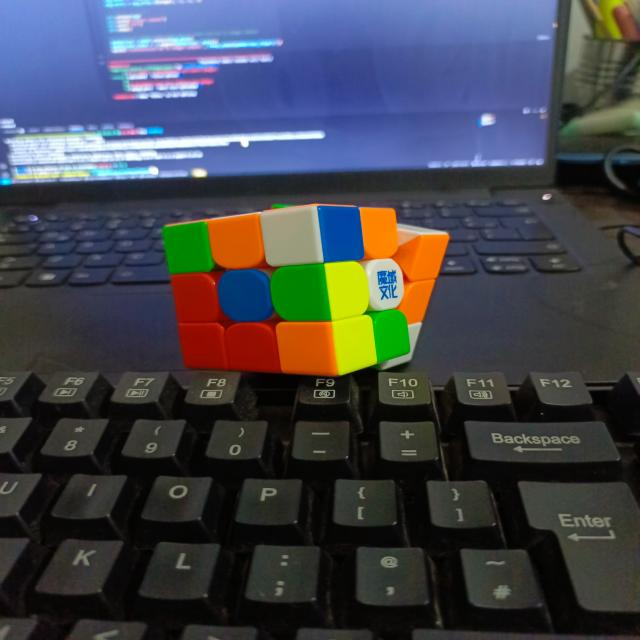rubik: (160, 202, 450, 376)
